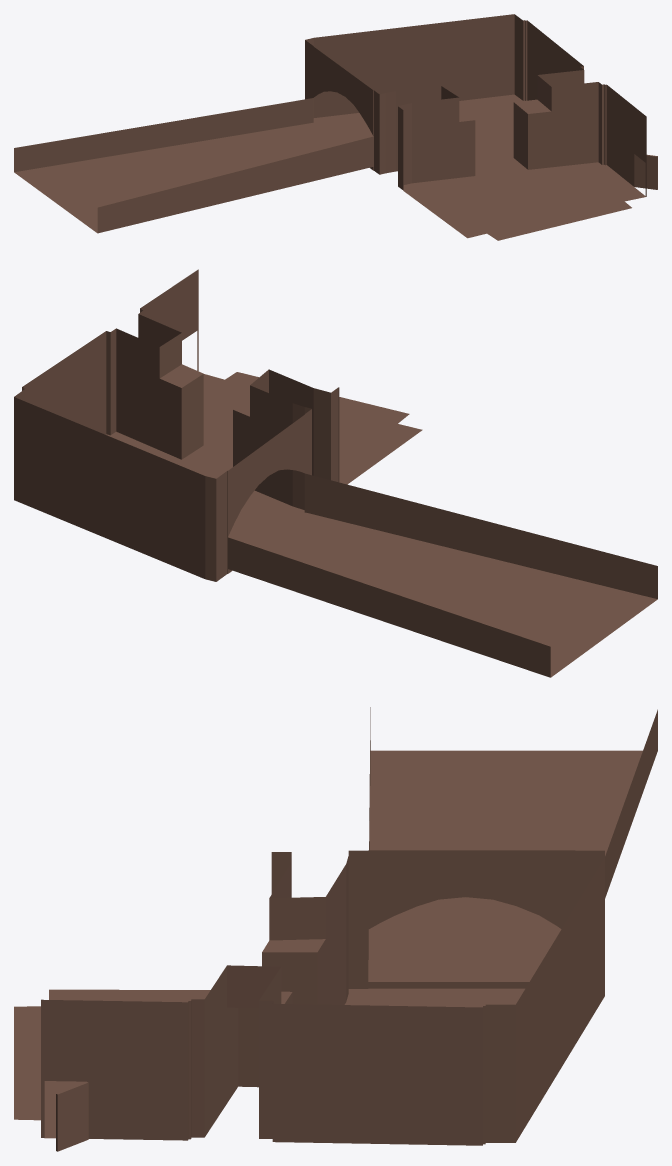
Rendered from Plan_14_-_20.02_Bestand.glb.
3 views of the same model, one above another, from view 1: azimuth 30°, elevation 25°; view 2: azimuth 150°, elevation 25°; view 3: azimuth 270°, elevation 25° (orthographic). The views are drawn at different scales.
Visible parts, largest first — view 1: Wände Main und Bar, Boden Main und Bar, Wände Tunnel, Boden Eingang; view 2: Wände Main und Bar, Wände Tunnel, Boden Eingang, Boden Main und Bar; view 3: Wände Main und Bar, Boden Eingang, Boden Main und Bar, Wände Tunnel.
Boxes of the visible parts, x1,y1,x2,y2 form: Wände Main und Bar: (305, 14, 657, 196); Boden Main und Bar: (313, 94, 645, 240); Wände Tunnel: (14, 98, 373, 233); Boden Eingang: (14, 123, 373, 233); Wände Main und Bar: (14, 269, 339, 581); Wände Tunnel: (228, 473, 657, 677); Boden Eingang: (228, 512, 657, 677); Boden Main und Bar: (105, 372, 422, 547); Wände Main und Bar: (41, 850, 604, 1151); Boden Eingang: (368, 750, 642, 988); Boden Main und Bar: (14, 988, 524, 1138); Wände Tunnel: (368, 707, 657, 959).
Size of the model in its own units: 33.43 by 5.47 by 23.08.
